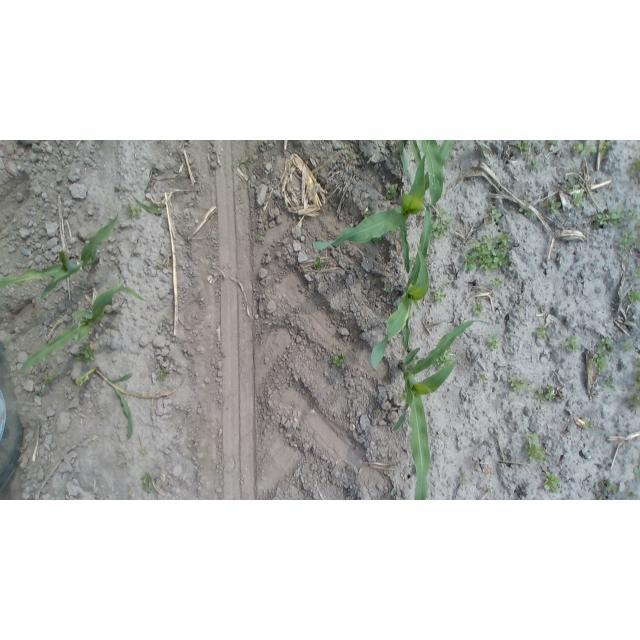Maize: (389, 316, 494, 500), (307, 141, 455, 256), (15, 284, 148, 373), (368, 201, 435, 370), (1, 210, 120, 304), (73, 365, 153, 440), (396, 141, 444, 210)
Weeds: (464, 231, 514, 273), (524, 432, 547, 464), (594, 207, 624, 227), (432, 209, 452, 239), (564, 182, 585, 205), (532, 385, 557, 403), (592, 349, 610, 374), (543, 472, 563, 493), (618, 230, 638, 250), (75, 345, 97, 363), (572, 141, 598, 156), (434, 350, 453, 369), (596, 336, 616, 354), (508, 376, 529, 393), (542, 198, 562, 215), (40, 373, 61, 387), (565, 335, 580, 354), (126, 202, 142, 219), (383, 184, 399, 201), (433, 288, 448, 305), (604, 478, 619, 495), (141, 473, 153, 493), (487, 333, 500, 351), (516, 141, 533, 154), (535, 326, 550, 340), (331, 353, 345, 368), (489, 206, 503, 221), (598, 141, 612, 156), (634, 358, 640, 391), (628, 391, 639, 409), (517, 206, 533, 218), (235, 156, 252, 167), (157, 368, 172, 380), (472, 302, 485, 315), (601, 377, 615, 389), (628, 289, 639, 304), (491, 277, 504, 289), (631, 463, 640, 480), (339, 143, 351, 155), (630, 158, 638, 175), (315, 255, 326, 267), (628, 208, 638, 221), (626, 490, 639, 499), (530, 160, 540, 171), (584, 419, 594, 430), (623, 342, 634, 352), (156, 202, 165, 214), (546, 141, 561, 148), (484, 484, 494, 494), (383, 282, 392, 292), (479, 373, 488, 383), (459, 476, 468, 485), (440, 282, 450, 290), (632, 267, 638, 280), (256, 233, 265, 241), (256, 140, 268, 146), (119, 461, 128, 469), (399, 392, 406, 402), (140, 446, 148, 454), (163, 315, 170, 324), (296, 425, 304, 432), (373, 408, 379, 417), (597, 495, 605, 500)
